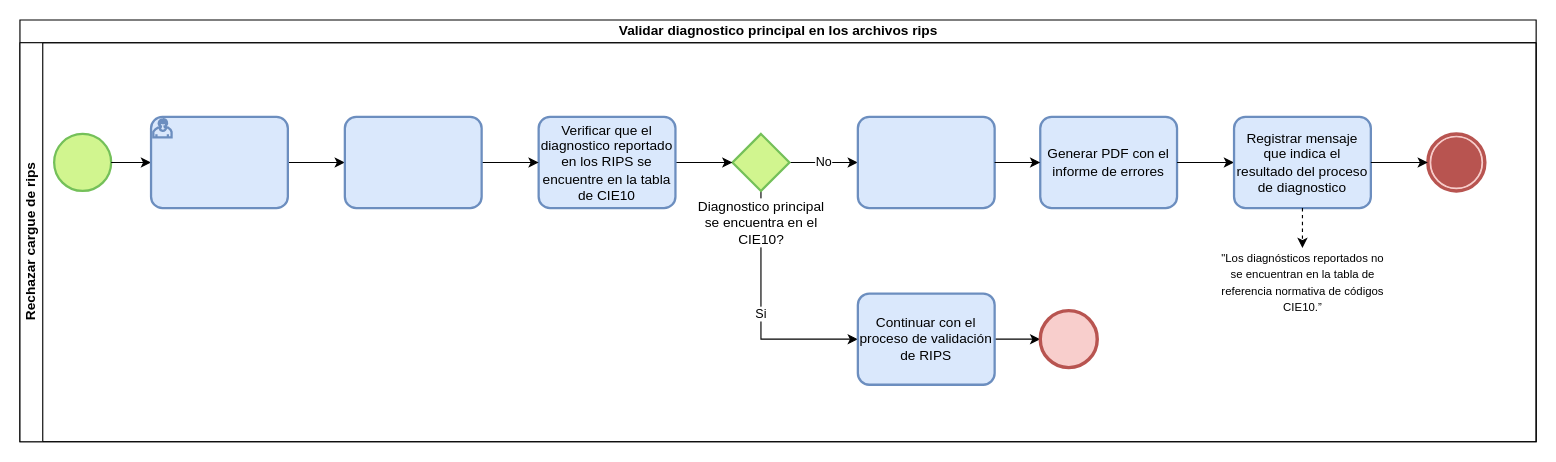
Image size: 1556x462. Some labels were removed from this diagram. The shapes that lost their labels are listed below. From the top down, each one's centre as x and y in pixels, then its label:
the point at 218,162: Ingresar a OASIS modulo erip
the point at 412,162: Cargar archivos rips opción PRIMERA VEZ
the point at 925,162: Rechazar los archivos RIPS
